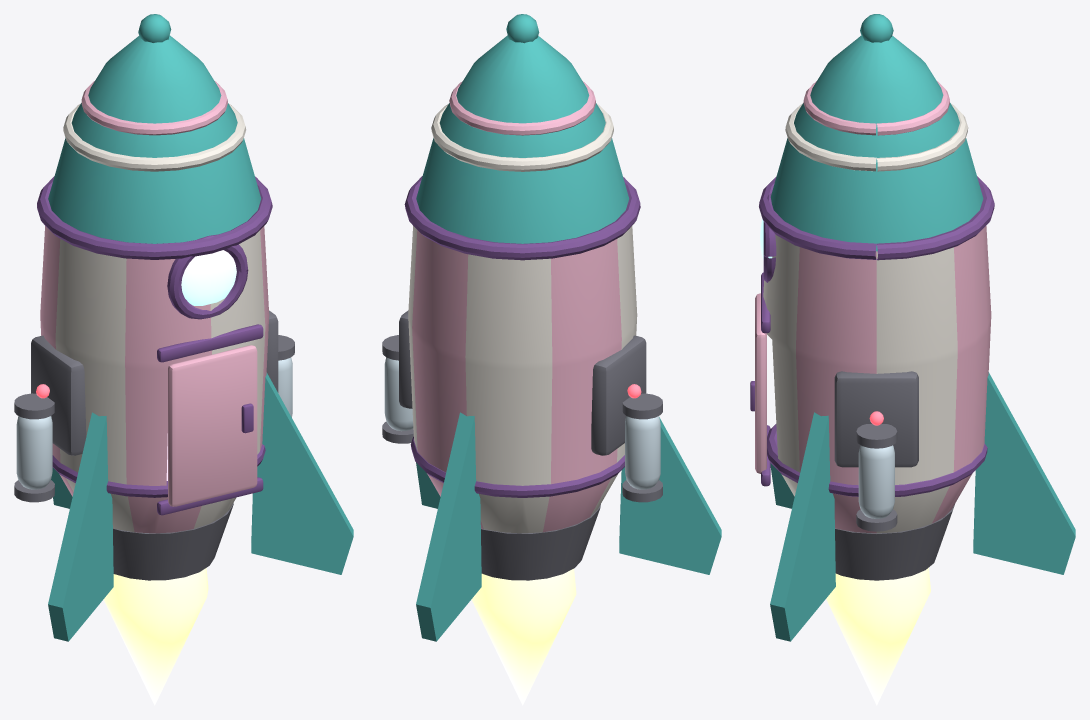
Rendered from SPY_Rocket_CandyForest.fbx.
3 renders of one model, left to right at view 1: azimuth 30°, elevation 25°; view 2: azimuth 150°, elevation 25°; view 3: azimuth 270°, elevation 25°, orthographic.
Parts seen in each view (by area): view 1: Body, Hatch, Flame, Slot_00_Empty, Slot_01_Empty; view 2: Body, Flame, Slot_00_Empty, Slot_01_Empty; view 3: Body, Flame, Slot_01_Empty, Hatch.
Boxes of the visible parts, bbox=[...] form: Body: bbox=[31, 14, 353, 641]; Hatch: bbox=[168, 345, 257, 506]; Flame: bbox=[103, 568, 208, 705]; Slot_00_Empty: bbox=[14, 384, 54, 502]; Slot_01_Empty: bbox=[278, 335, 294, 417]; Body: bbox=[399, 14, 721, 641]; Flame: bbox=[471, 568, 576, 705]; Slot_00_Empty: bbox=[622, 384, 662, 502]; Slot_01_Empty: bbox=[382, 335, 413, 443]; Body: bbox=[759, 14, 1075, 641]; Flame: bbox=[826, 567, 930, 705]; Slot_01_Empty: bbox=[856, 411, 897, 531]; Hatch: bbox=[750, 293, 766, 473].
Size of the model in its own units: 2.93 by 6.32 by 2.7.
